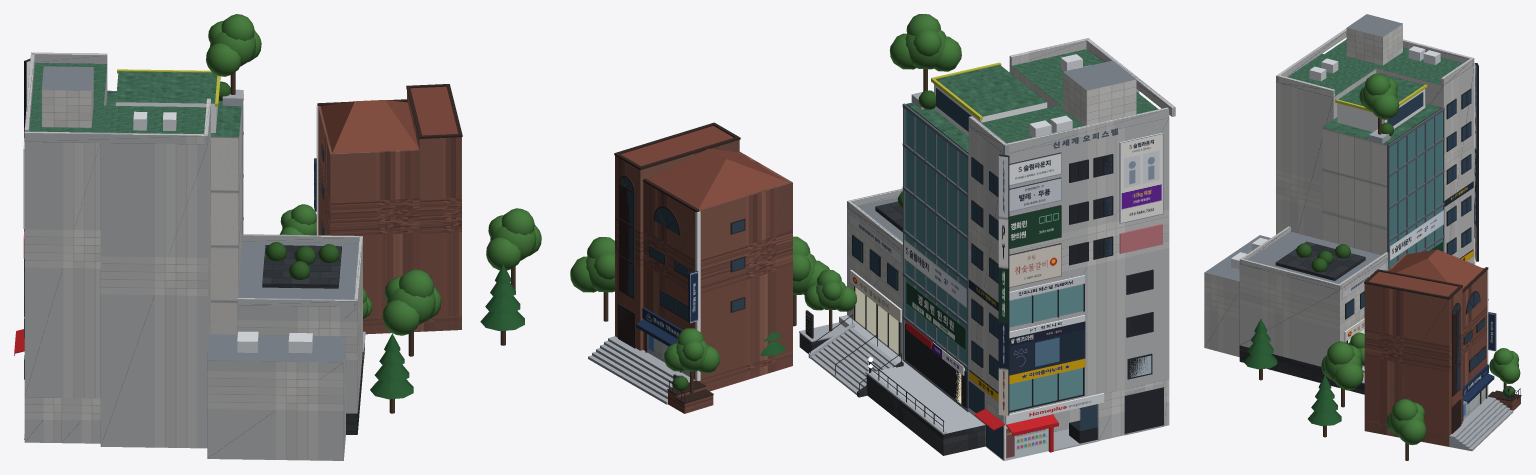
The model's file is place_홈플러스익스프레스.glb.
The picture shows the model from 3 angles, left to right: view 1: azimuth 30°, elevation 25°; view 2: azimuth 150°, elevation 25°; view 3: azimuth 270°, elevation 25°; orthographic projection. The views are drawn at different scales.
Visible parts, largest first — view 1: B1_Tower_RearLLeg, B1_Tower_Upper, B1_Rear_UtilityAnnex, B2_Main_WestBay, Merged_Tree_Leaves, B1_East_2F_Annex, B2_East_StairTower, B1_CurtainWall_Core, Merged_B1_Parapet, B2_Terracotta_HippedRoof, B1_GlassBlock_Penthouse, Merged_Tree_Pines (+11 smaller); view 2: B1_Tower_Upper, B1_ShinsegaeOfficetel_Homeplus, B2_Main_WestBay, Merged_B1_DarkMetal, Merged_Tree_Leaves, B1_CurtainWall_Glass, B1_Podium_RetainingWall, Merged_B1_Parapet, Merged_B1_CurtainMullions, B2_Terracotta_HippedRoof, Merged_B1_DarkGlass, B1_Roof_ElevatorBulkhead (+28 smaller); view 3: B2_East_StairTower, B1_East_2F_Annex, B1_Tower_RearLLeg, B1_CurtainWall_Core, B1_Tower_Upper, Merged_Tree_Leaves, B1_CurtainWall_Glass, B1_Rear_UtilityAnnex, Merged_B1_Parapet, B1_ShinsegaeOfficetel_Homeplus, Merged_B1_CurtainMullions, B1_Roof_ElevatorBulkhead (+20 smaller).
Boxes of the visible parts, box(x1,y1,x2,y2) form: B1_Tower_RearLLeg: box(100, 105, 210, 448); B1_Tower_Upper: box(24, 63, 107, 398); B1_Rear_UtilityAnnex: box(207, 334, 345, 460); B2_Main_WestBay: box(318, 106, 419, 319); Merged_Tree_Leaves: box(206, 14, 541, 335); B1_East_2F_Annex: box(237, 241, 362, 413); B2_East_StairTower: box(407, 91, 461, 331); B1_CurtainWall_Core: box(106, 92, 242, 334); Merged_B1_Parapet: box(24, 52, 362, 306); B2_Terracotta_HippedRoof: box(320, 100, 418, 153); B1_GlassBlock_Penthouse: box(116, 71, 217, 132); Merged_Tree_Pines: box(370, 264, 524, 399); B1_Tower_Upper: box(968, 92, 1169, 413); B1_ShinsegaeOfficetel_Homeplus: box(808, 128, 1163, 460); B2_Main_WestBay: box(643, 151, 792, 379); Merged_B1_DarkMetal: box(810, 154, 1153, 458); Merged_Tree_Leaves: box(570, 14, 961, 372); B1_CurtainWall_Glass: box(905, 109, 967, 371); B1_Podium_RetainingWall: box(866, 364, 985, 455); Merged_B1_Parapet: box(847, 38, 1175, 250); Merged_B1_CurtainMullions: box(902, 103, 968, 411); B2_Terracotta_HippedRoof: box(647, 148, 788, 209); Merged_B1_DarkGlass: box(852, 88, 1138, 456); B1_Roof_ElevatorBulkhead: box(1063, 60, 1136, 125); B2_East_StairTower: box(1364, 283, 1462, 446); B1_East_2F_Annex: box(1239, 231, 1388, 366); B1_Tower_RearLLeg: box(1276, 53, 1376, 239); B1_CurtainWall_Core: box(1322, 103, 1441, 255); B1_Tower_Upper: box(1324, 39, 1474, 263); Merged_Tree_Leaves: box(1321, 73, 1520, 445); B1_CurtainWall_Glass: box(1389, 112, 1442, 268); B1_Rear_UtilityAnnex: box(1204, 235, 1270, 356); Merged_B1_Parapet: box(1239, 28, 1474, 290); B1_ShinsegaeOfficetel_Homeplus: box(1239, 169, 1474, 387); Merged_B1_CurtainMullions: box(1387, 108, 1444, 269); B1_Roof_ElevatorBulkhead: box(1346, 14, 1402, 65).
Bounding box in the file's own units: 43.63 × 27.07 × 28.21.
Materials: 52 (29 with a texture image).
